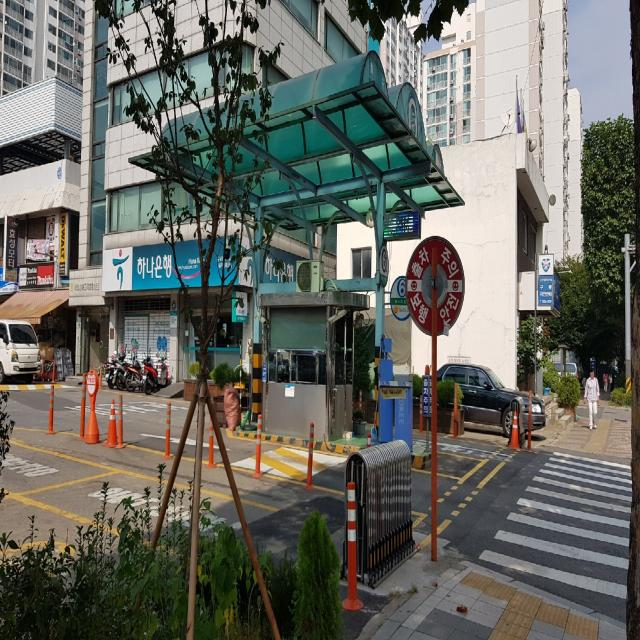횡단보도: (477, 448, 640, 601)
